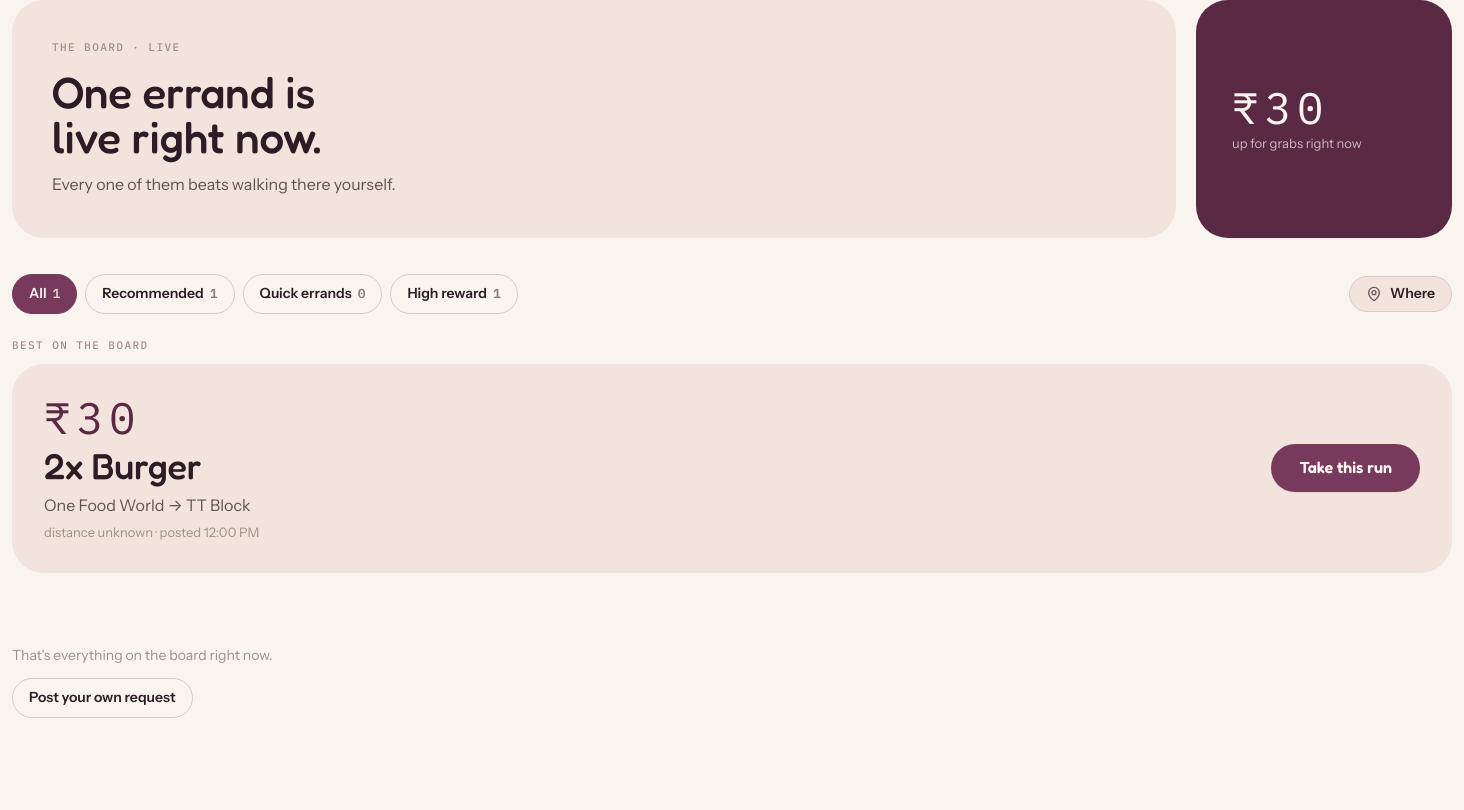
it: Home — 3B filters › shows an honest empty state for Quick errands rather than a decorative empty section
This screenshot has width=1464, height=810.
Click the button "Quick errands0".
click(313, 294)  # box [243,274,382,314]
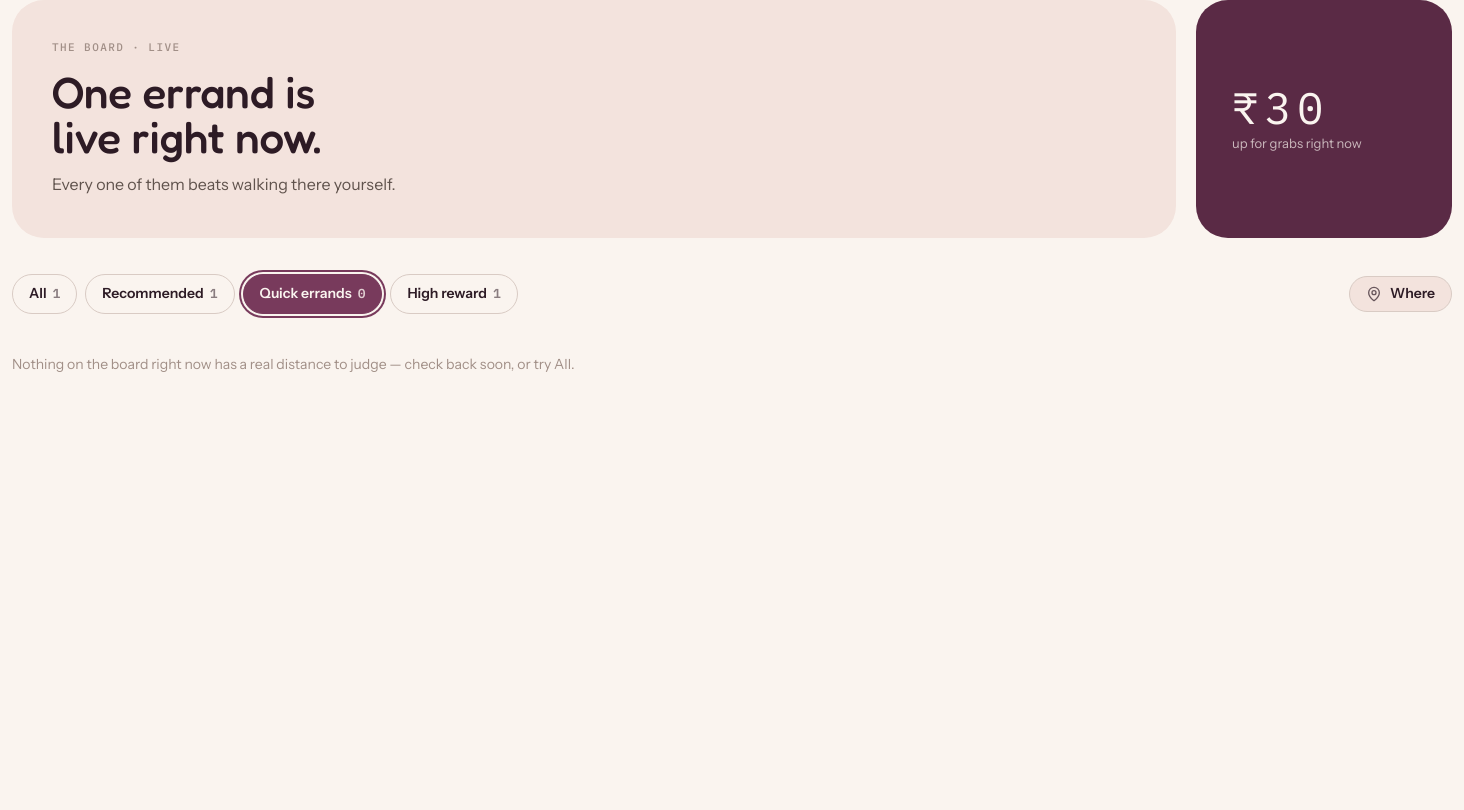
Expected: the text "Nothing on the board right now has a real distance" is shown, [12,355,575,373]
